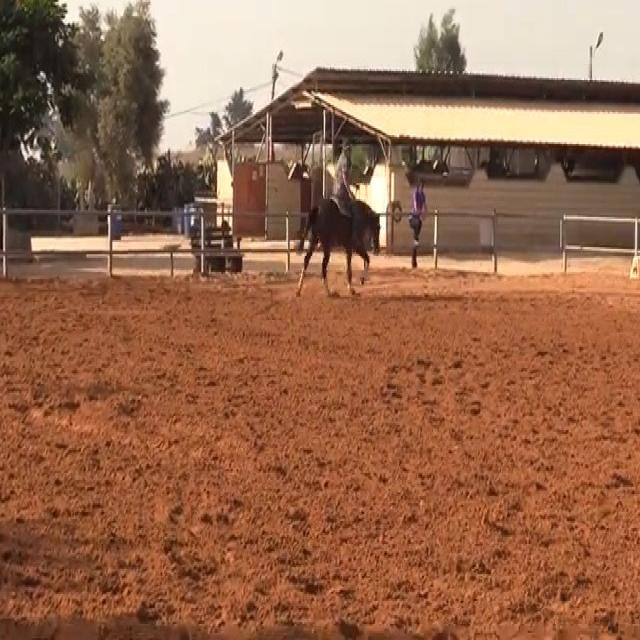horse: (294, 192, 382, 299)
